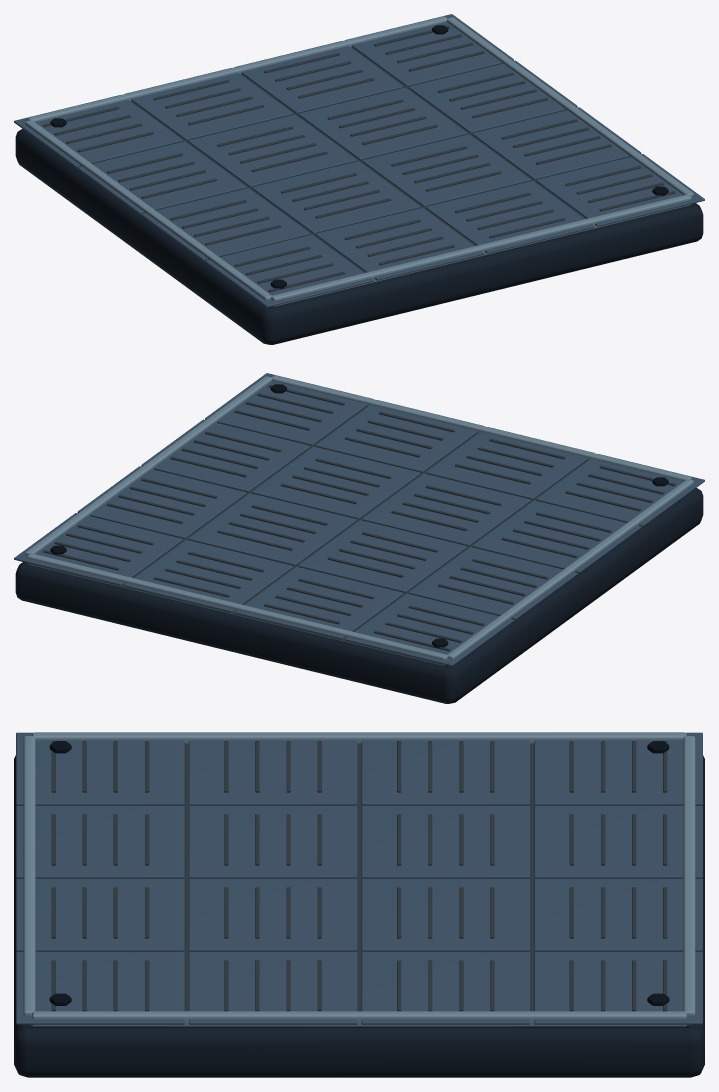
File: foundry_platform.fbx
The picture shows the model from 3 angles, top to bottom: view 1: azimuth 30°, elevation 25°; view 2: azimuth 150°, elevation 25°; view 3: azimuth 270°, elevation 25°; orthographic projection. The views are drawn at different scales.
Visible parts, largest first — view 1: foundry_platform_Geometry; view 2: foundry_platform_Geometry; view 3: foundry_platform_Geometry.
Part boxes in pixels (box(x1,y1,x2,y2)): foundry_platform_Geometry: box(14, 14, 704, 344); foundry_platform_Geometry: box(14, 373, 704, 703); foundry_platform_Geometry: box(14, 732, 704, 1077).
Size of the model in its own units: 4 by 0.421 by 4.
